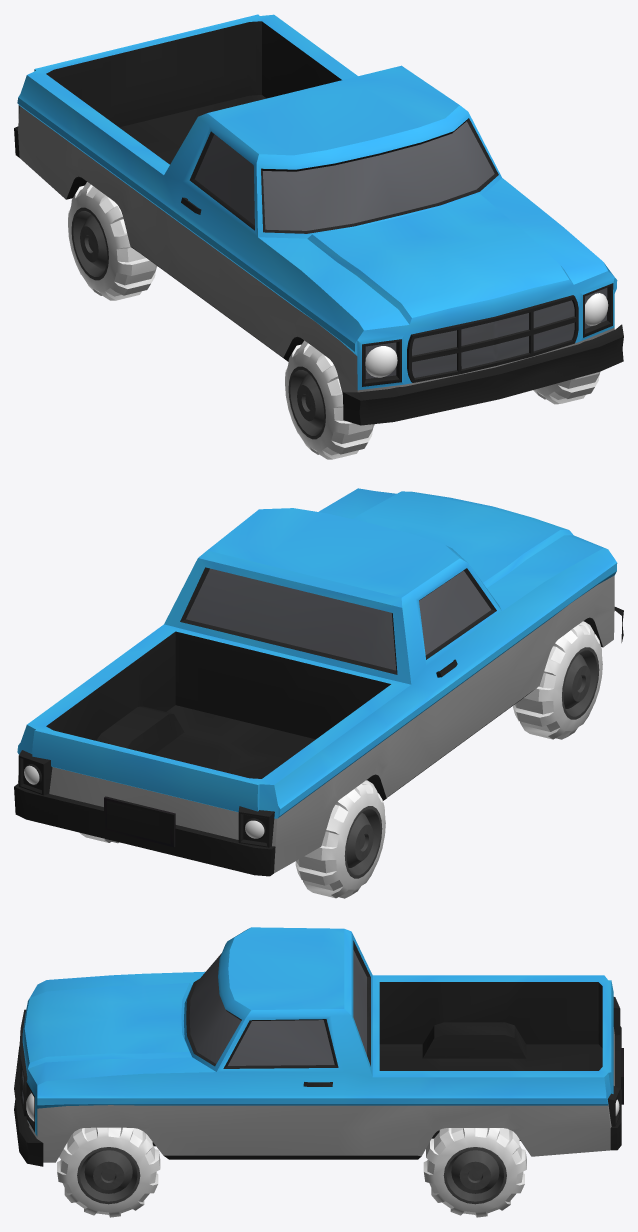
File: Vehicle_Pickup.glb
The picture shows the model from 3 angles, top to bottom: view 1: azimuth 30°, elevation 25°; view 2: azimuth 150°, elevation 25°; view 3: azimuth 270°, elevation 25°; orthographic projection. The views are drawn at different scales.
Parts seen in each view (by area): view 1: Pickup, BackWheels, FrontWheel_R, FrontWheel_L; view 2: Pickup, BackWheels, FrontWheel_R; view 3: Pickup, BackWheels, FrontWheel_L.
Boxes of the visible parts, box(x1,y1,x2,y2) form: Pickup: box(14, 14, 623, 425); BackWheels: box(68, 182, 157, 300); FrontWheel_R: box(285, 340, 374, 459); FrontWheel_L: box(533, 372, 600, 404); Pickup: box(14, 488, 623, 876); BackWheels: box(80, 780, 385, 898); FrontWheel_R: box(512, 621, 602, 739); Pickup: box(14, 927, 623, 1166); BackWheels: box(423, 1128, 526, 1217); FrontWheel_L: box(57, 1127, 160, 1217).
Size of the model in its own units: 2.31 by 1.85 by 5.18.
